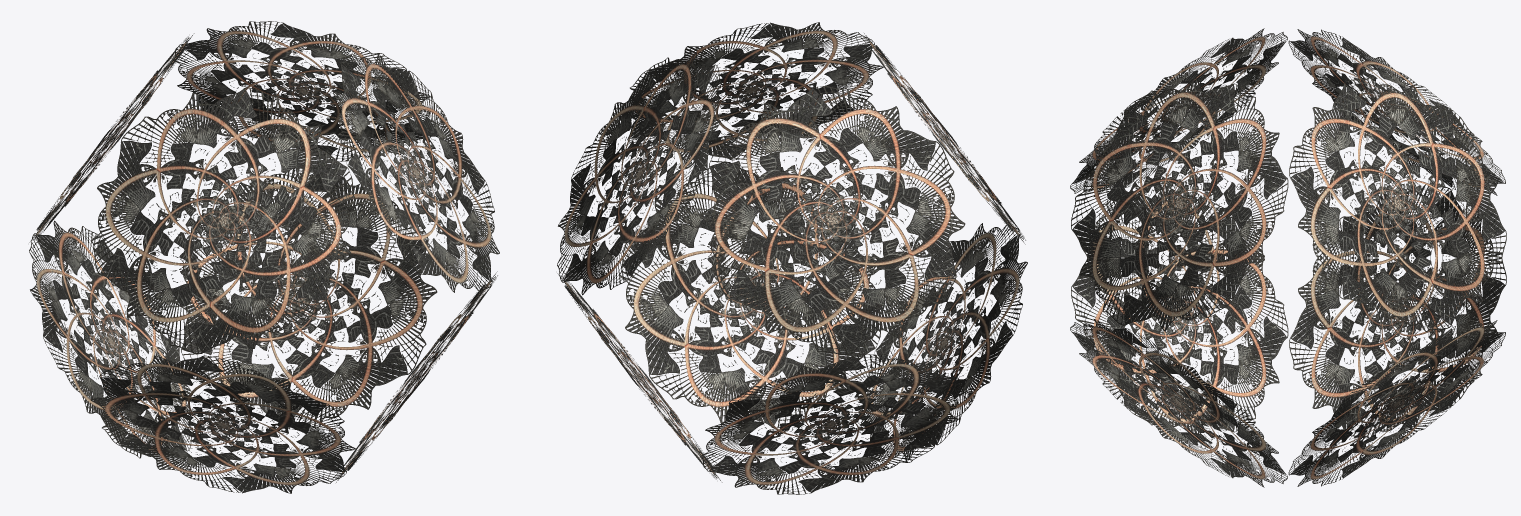
The model's file is TruncatedOctahedron42.gltf.
The picture shows the model from 3 angles, left to right: view 1: azimuth 30°, elevation 25°; view 2: azimuth 150°, elevation 25°; view 3: azimuth 270°, elevation 25°; orthographic projection. The views are drawn at different scales.
Parts seen in each view (by area): view 1: 0TruncatedOctahedron; view 2: 0TruncatedOctahedron; view 3: 0TruncatedOctahedron.
Part boxes in pixels (<box>): 0TruncatedOctahedron: <box>29,21,499,493</box>; 0TruncatedOctahedron: <box>557,22,1027,494</box>; 0TruncatedOctahedron: <box>1070,28,1506,487</box>.
Size of the model in its own units: 2.83 by 2.83 by 2.83.
1 material, 1 textured.
